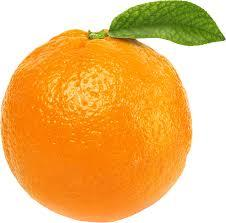non-mango: (0, 27, 193, 222)
